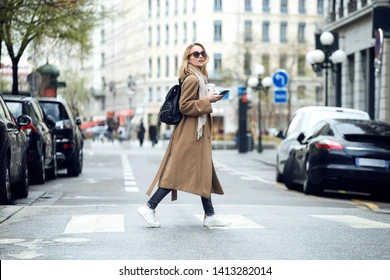person: (136, 37, 243, 233)
